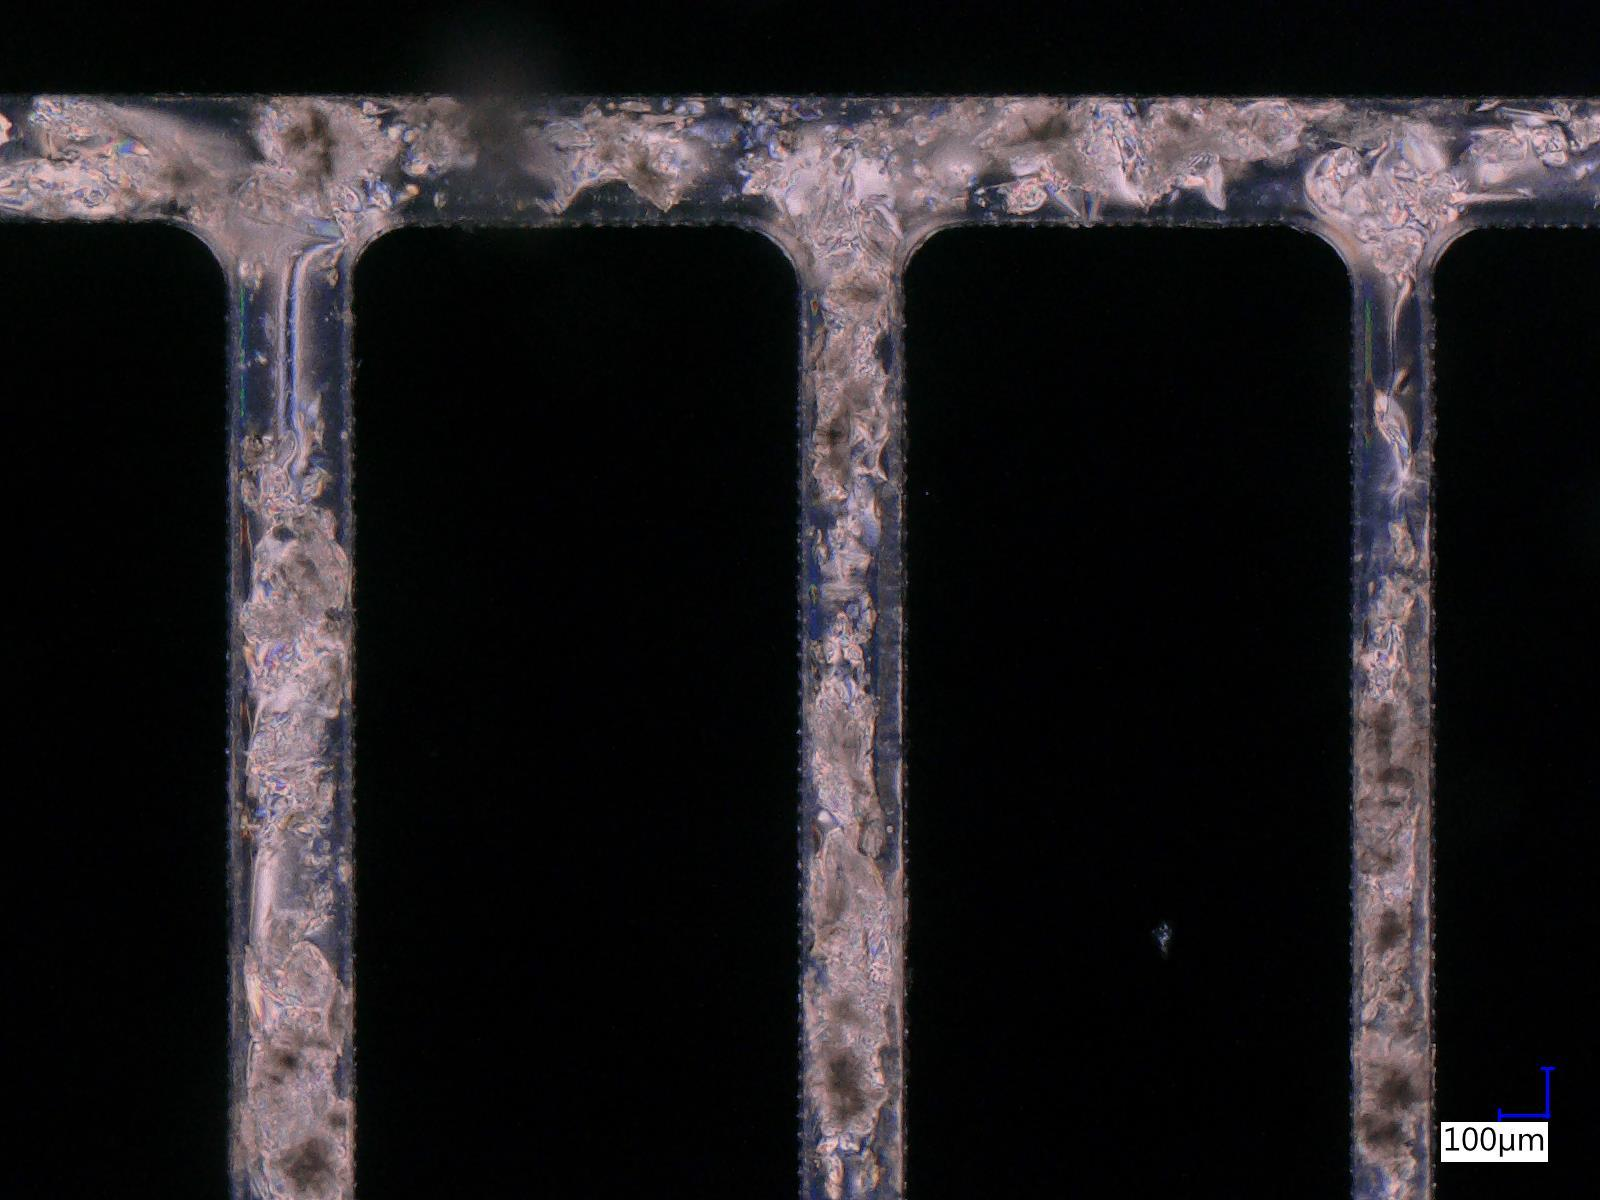sediment: (247, 519, 344, 640), (263, 1099, 353, 1200), (262, 102, 372, 184), (1359, 698, 1427, 829), (821, 332, 876, 495), (813, 692, 876, 824), (821, 1000, 883, 1134), (1359, 1036, 1430, 1153), (1367, 892, 1415, 1031)
